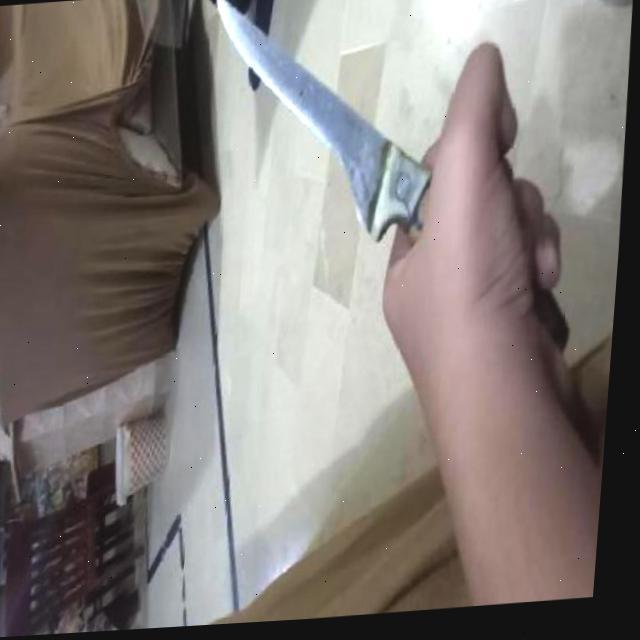knife: (195, 0, 595, 381)
